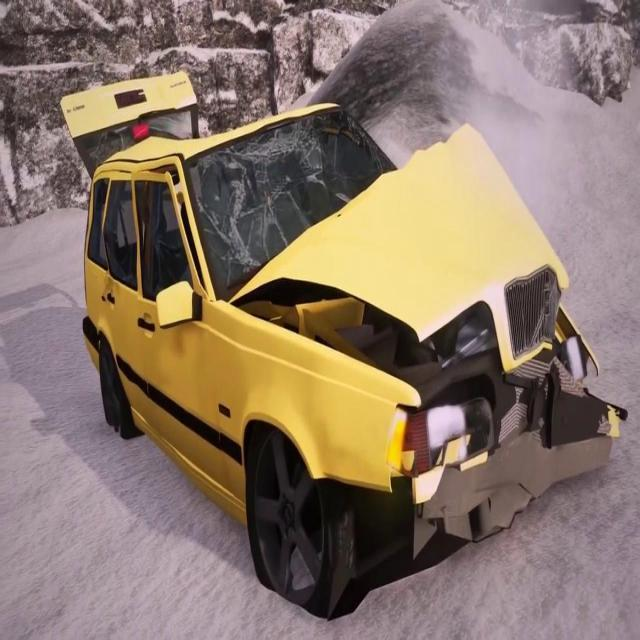vehicle: (31, 38, 602, 596)
